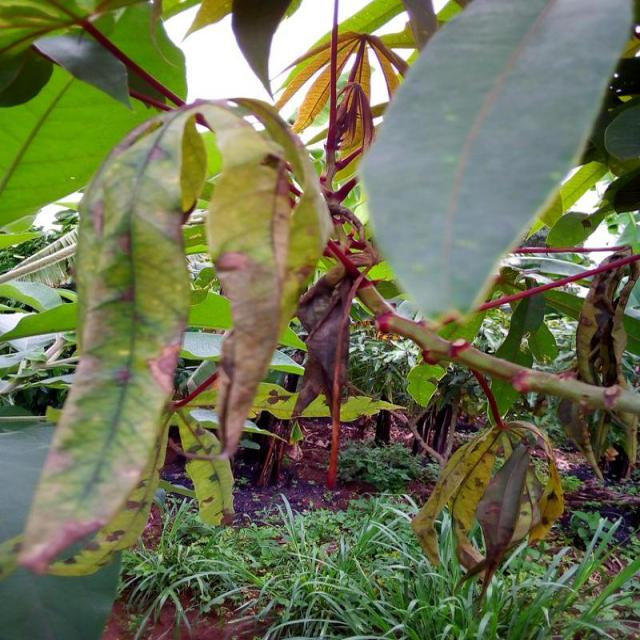cassava leaf: (357, 0, 635, 338), (16, 103, 208, 578)
